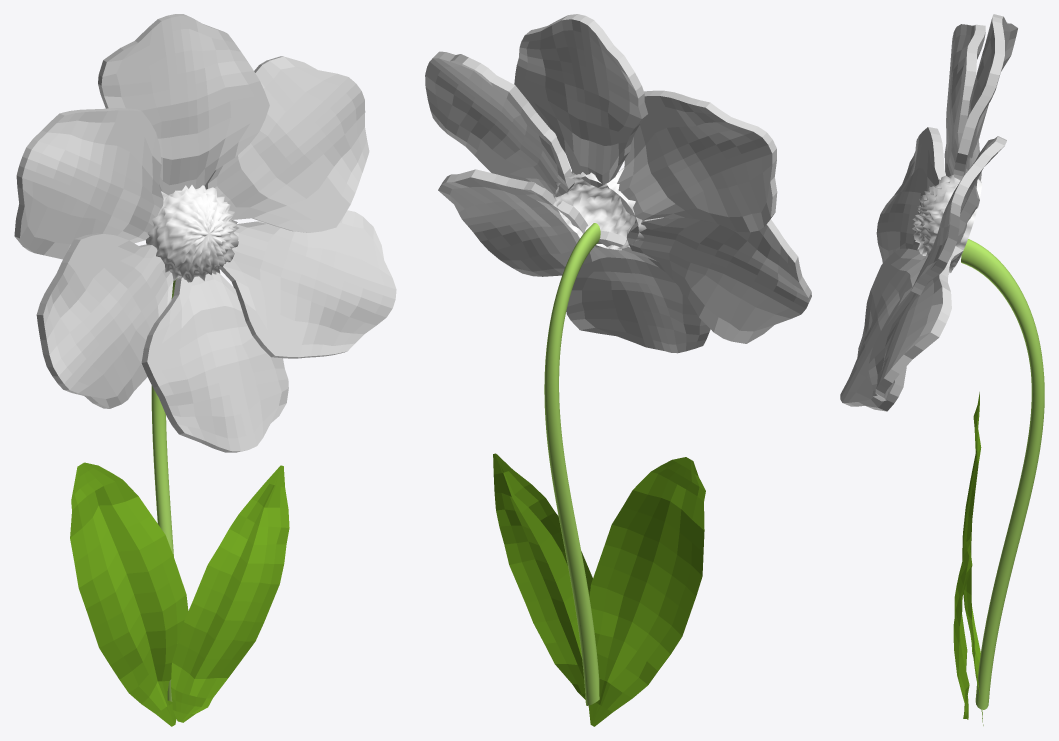
Rendered from flower5.glb.
3 renders of one model, left to right at view 1: azimuth 30°, elevation 25°; view 2: azimuth 150°, elevation 25°; view 3: azimuth 270°, elevation 25°, orthographic.
Visible parts, largest first — view 1: NurbsPath; view 2: NurbsPath; view 3: NurbsPath.
Part boxes in pixels (x1,y1,x2,y2): NurbsPath: (14,14,396,726); NurbsPath: (425,14,811,726); NurbsPath: (840,14,1044,725).
Bounding box in the file's own units: 0.3108 × 0.6031 × 0.1571.
